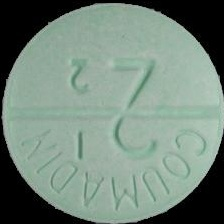49999-411: (0, 0, 224, 224)
